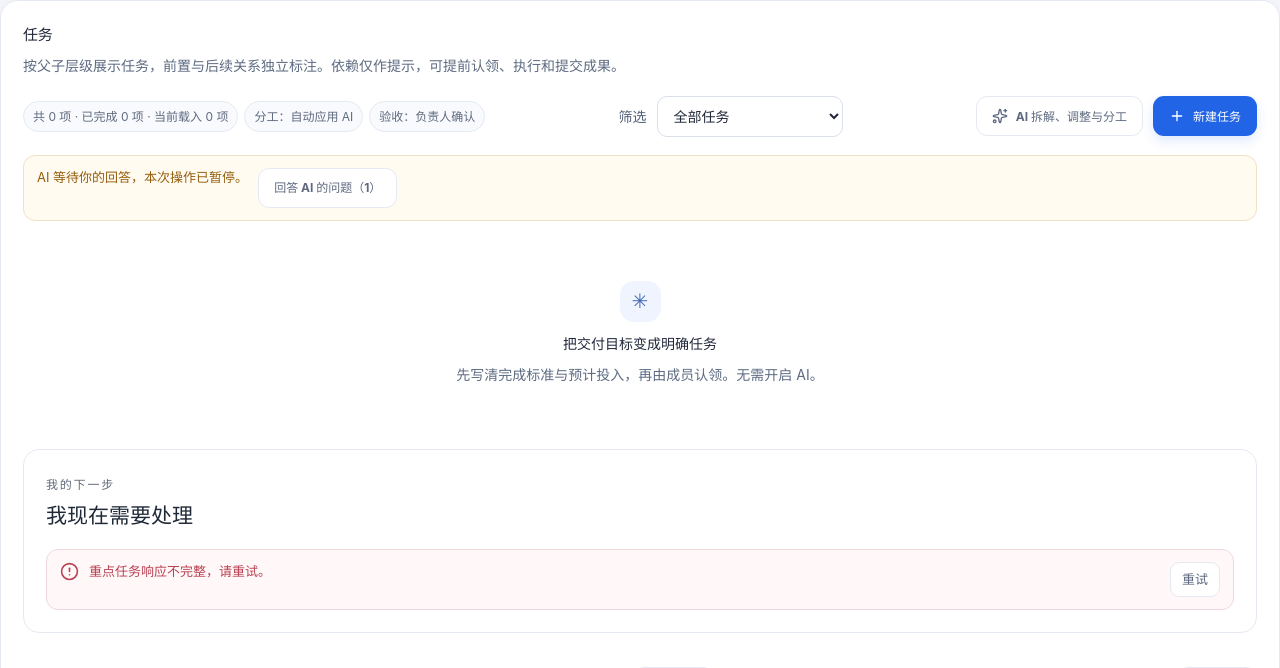
Test: persisted project clarification › handles cancel explicitly without creating or applying project tasks
The image size is (1280, 668).
Click the button "回答 AI 的问题（1）" at x=328, y=188, box [258, 168, 397, 208]
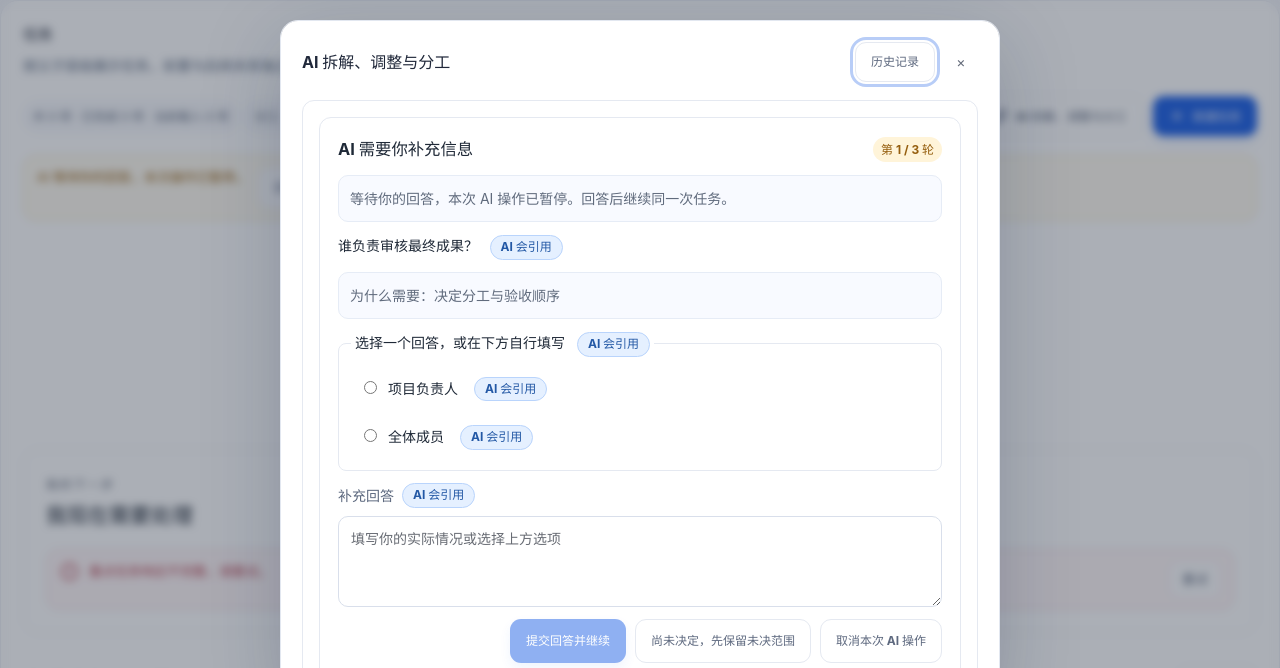
Expected: the text "谁负责审核最终成果？" is shown, [338, 237, 478, 254]
Click the button "取消本次 AI 操作" at x=881, y=641, box [820, 619, 942, 663]
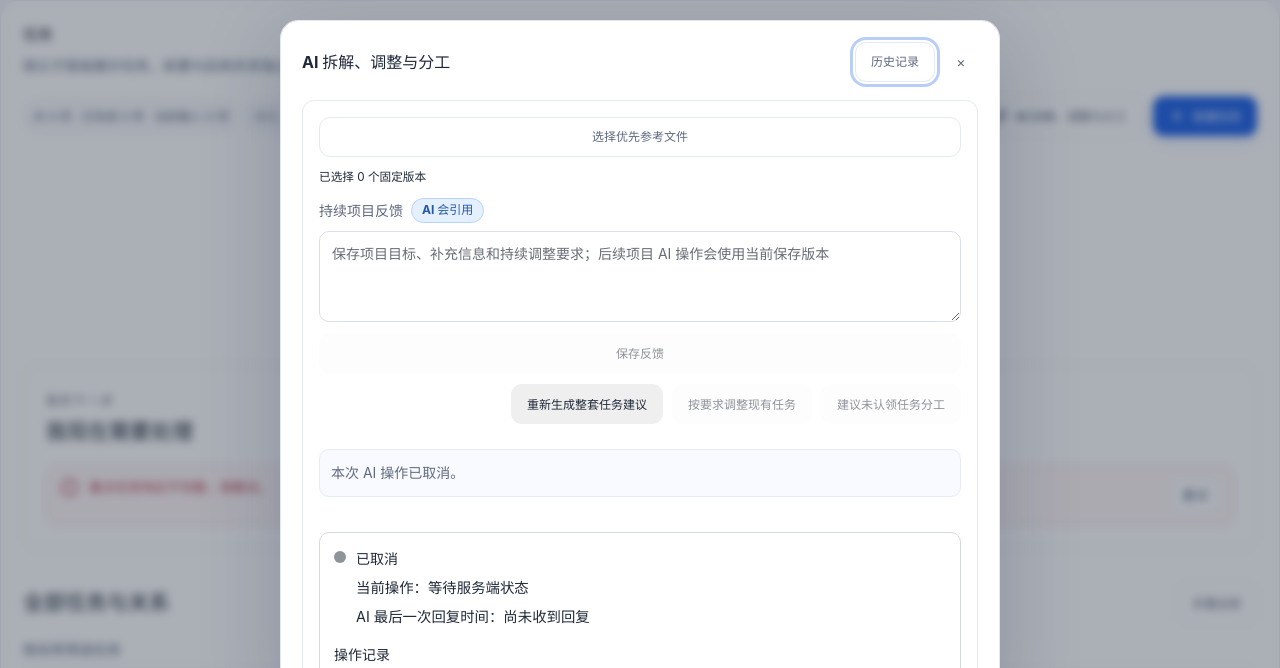
Expected: the text "谁负责审核最终成果？" is gone
